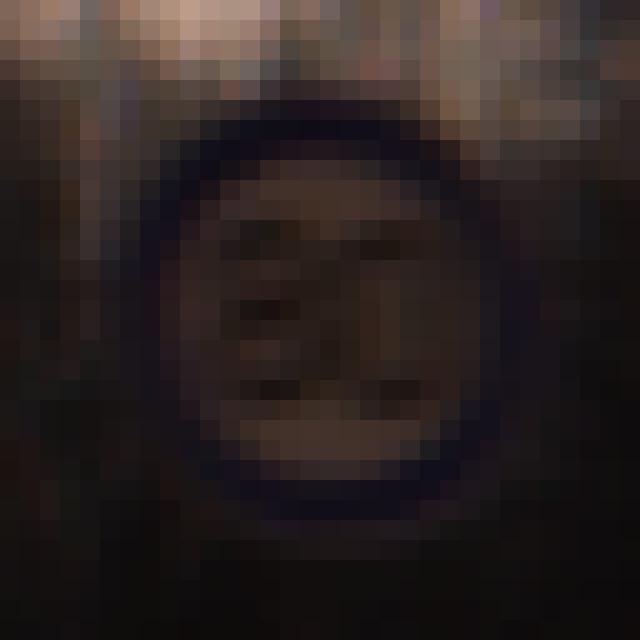SPEED-LIMIT-80: (100, 101, 516, 499)
